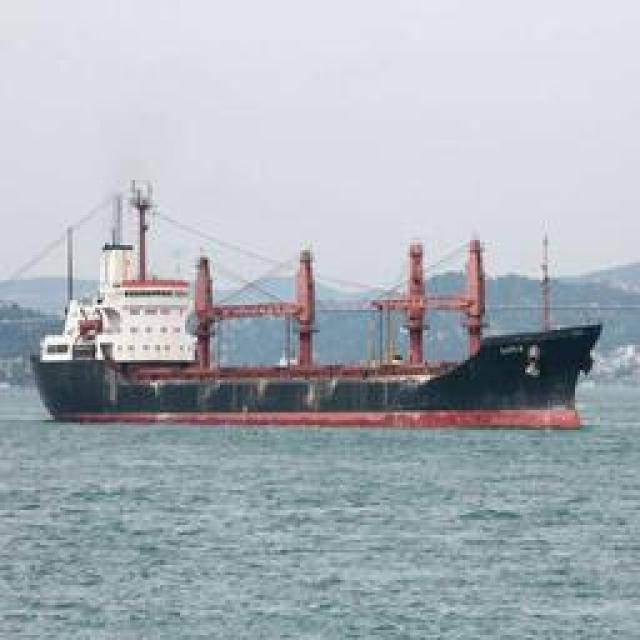CIV_Ship: (36, 208, 599, 432)
